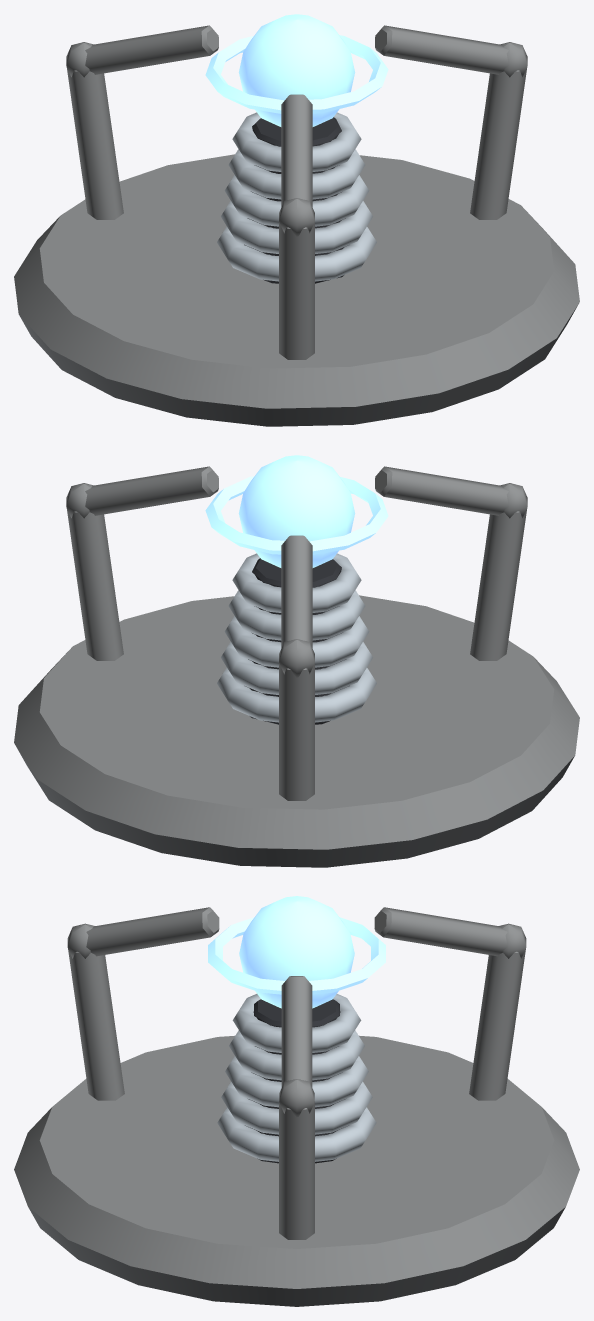
The model's file is R4D_EMPTrap.glb.
3 renders of one model, top to bottom at view 1: azimuth 30°, elevation 25°; view 2: azimuth 150°, elevation 25°; view 3: azimuth 270°, elevation 25°, orthographic.
Visible parts, largest first — view 1: R4D_EMPTrap_Body, R4D_EMPTrap_Core; view 2: R4D_EMPTrap_Body, R4D_EMPTrap_Core; view 3: R4D_EMPTrap_Body, R4D_EMPTrap_Core.
Part boxes in pixels (box(x1,y1,x2,y2)): R4D_EMPTrap_Body: box(14, 25, 579, 426); R4D_EMPTrap_Core: box(205, 14, 388, 126); R4D_EMPTrap_Body: box(14, 466, 579, 867); R4D_EMPTrap_Core: box(205, 455, 388, 567); R4D_EMPTrap_Body: box(14, 907, 579, 1306); R4D_EMPTrap_Core: box(208, 896, 385, 1008).
Size of the model in its own units: 0.44 by 0.25 by 0.44.
